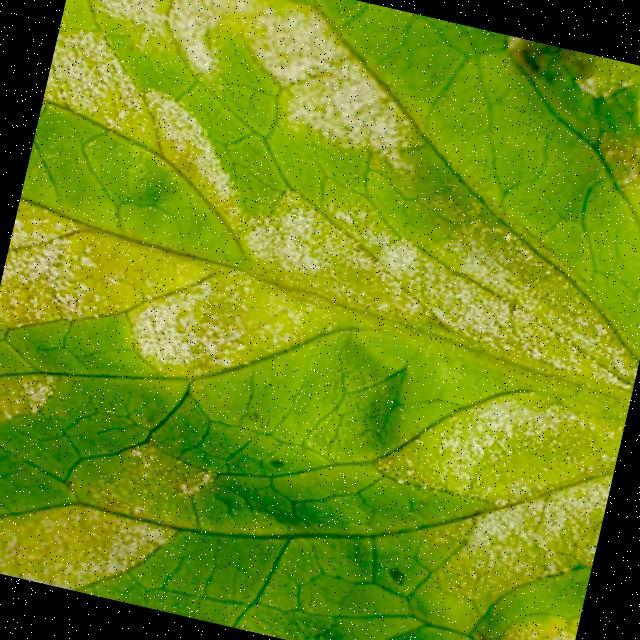Powdery_mildew_on_lettuce: (0, 0, 455, 423)
